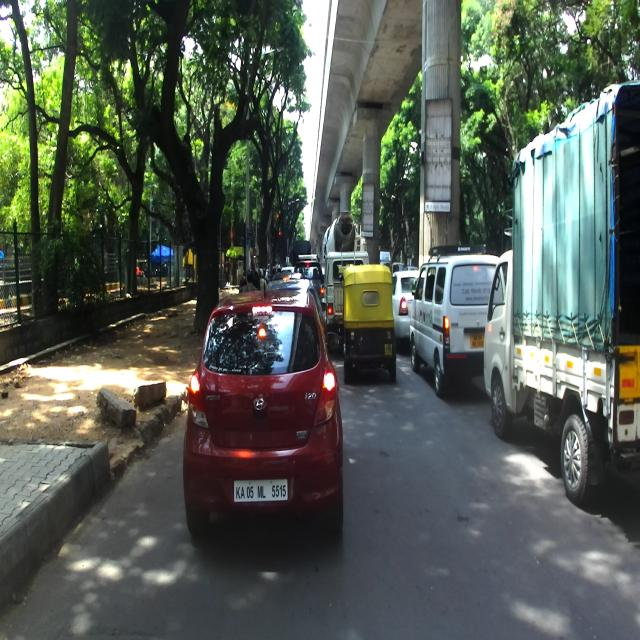auto ahead at: (342, 261, 396, 385)
car ahead at: (187, 285, 346, 528)
stones ahead at: (98, 376, 168, 428)
tree ahead at: (157, 125, 232, 326)
